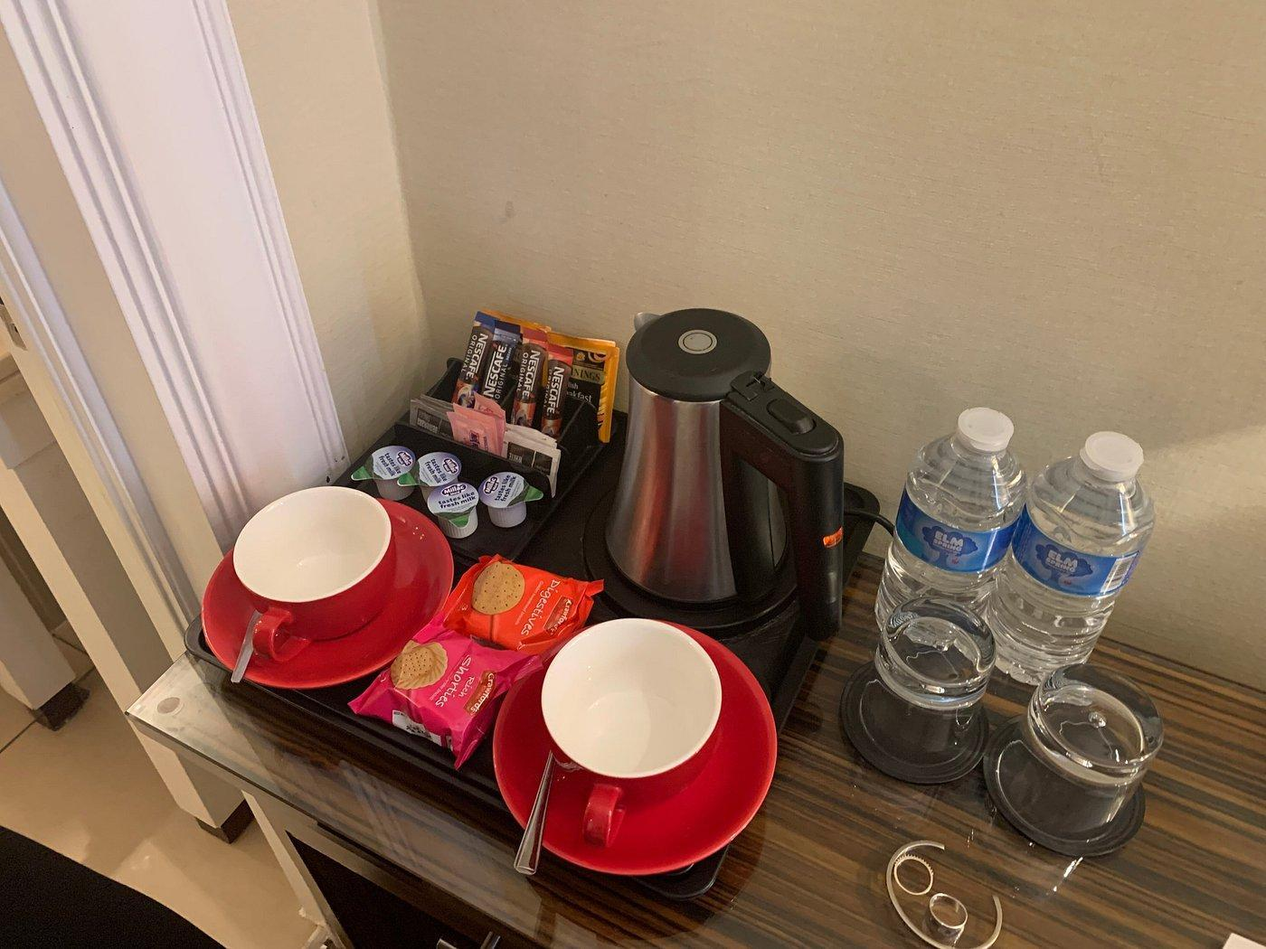organized table: (68, 282, 1265, 948)
